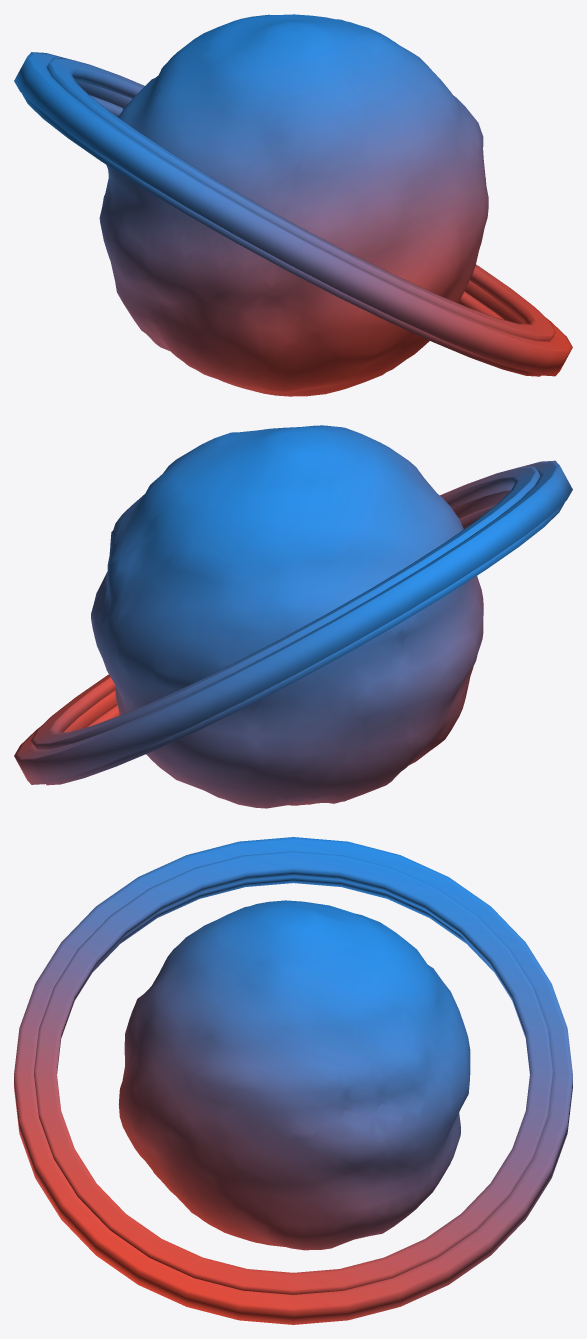
File: Planet_V9.fbx
3 views of the same model, one above another, from view 1: azimuth 30°, elevation 25°; view 2: azimuth 150°, elevation 25°; view 3: azimuth 270°, elevation 25° (orthographic). The views are drawn at different scales.
Parts seen in each view (by area): view 1: Planet_V9; view 2: Planet_V9; view 3: Planet_V9.
Part boxes in pixels (x1,y1,x2,y2): Planet_V9: (14, 14, 572, 396); Planet_V9: (14, 425, 572, 808); Planet_V9: (14, 837, 572, 1324).
Size of the model in its own units: 2033 by 1463 by 2360.
